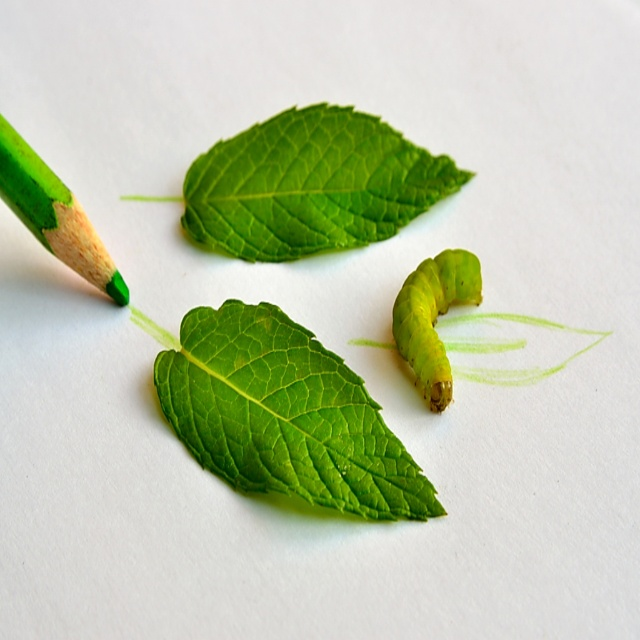Caterpillar: (394, 247, 483, 415)
